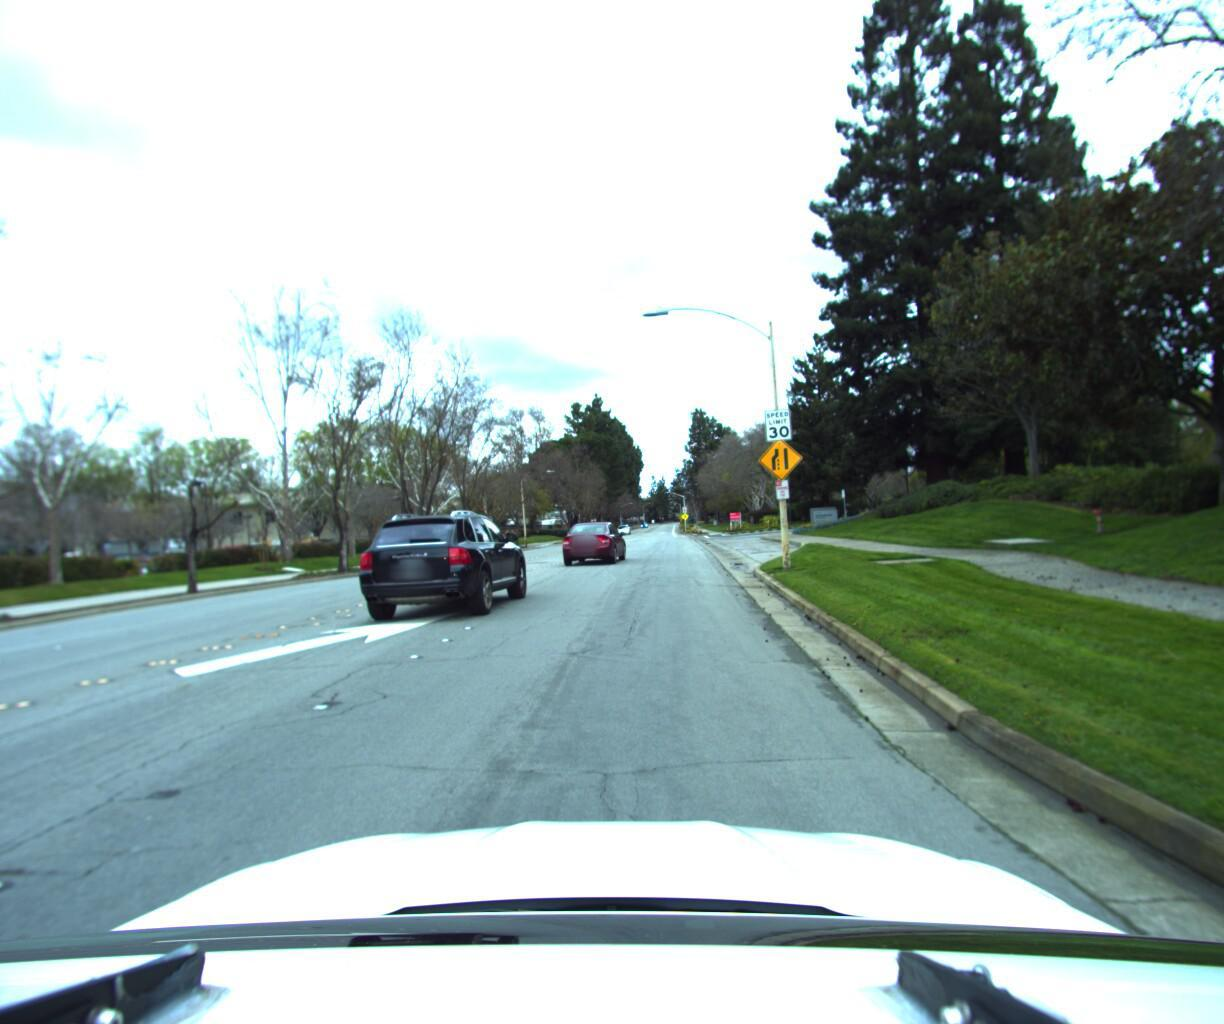car: (351, 508, 537, 625), (558, 518, 628, 566)
